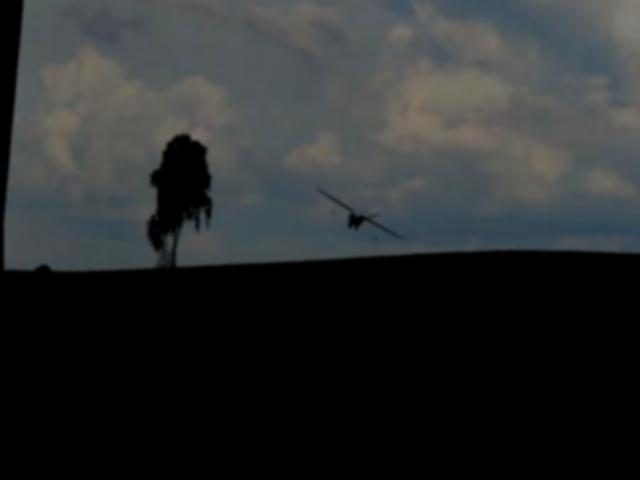uav: (309, 180, 414, 253)
